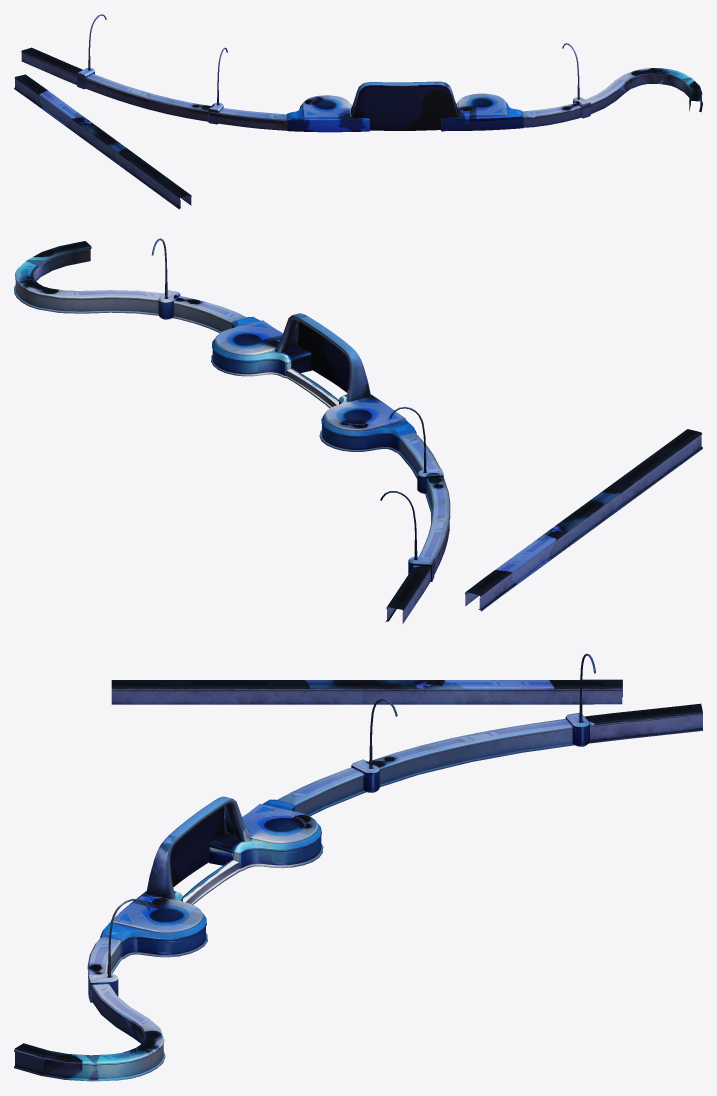
Rendered from pref_sm_4v4beachtech_WSJ_bk_topblock_R01a_lv2.fbx.
3 renders of one model, top to bottom at view 1: azimuth 30°, elevation 25°; view 2: azimuth 150°, elevation 25°; view 3: azimuth 270°, elevation 25°, orthographic. The views are drawn at different scales.
Parts seen in each view (by area): view 1: pref_sm_4v4beachtech_WSJ_bk_topblock_R01a_lv2; view 2: pref_sm_4v4beachtech_WSJ_bk_topblock_R01a_lv2; view 3: pref_sm_4v4beachtech_WSJ_bk_topblock_R01a_lv2.
Part boxes in pixels (x1,y1,x2,y2): pref_sm_4v4beachtech_WSJ_bk_topblock_R01a_lv2: (14, 14, 702, 209); pref_sm_4v4beachtech_WSJ_bk_topblock_R01a_lv2: (14, 238, 702, 623); pref_sm_4v4beachtech_WSJ_bk_topblock_R01a_lv2: (14, 653, 702, 1081).
Size of the model in its own units: 42.31 by 5.07 by 32.04.
